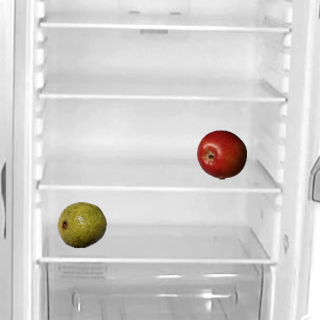Apple Braeburn: (196, 129, 246, 179)
Guava: (56, 199, 106, 249)
